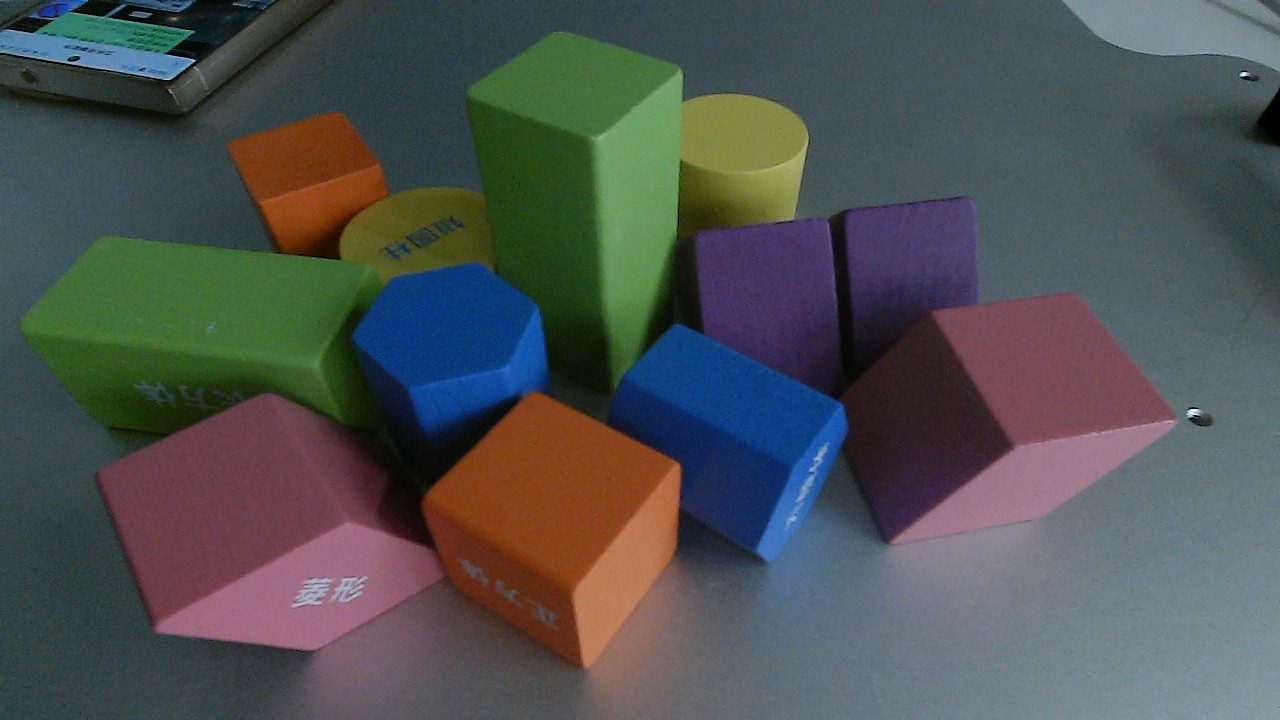circle: (670, 89, 805, 239), (340, 186, 509, 303)
diamond: (93, 390, 453, 655), (837, 291, 1179, 545)
hexagon: (606, 322, 855, 562), (347, 260, 553, 466)
rectangle: (464, 26, 684, 397), (19, 235, 387, 428)
square: (419, 392, 683, 671), (231, 111, 394, 262)
triangle: (666, 215, 843, 401), (828, 194, 984, 372)
